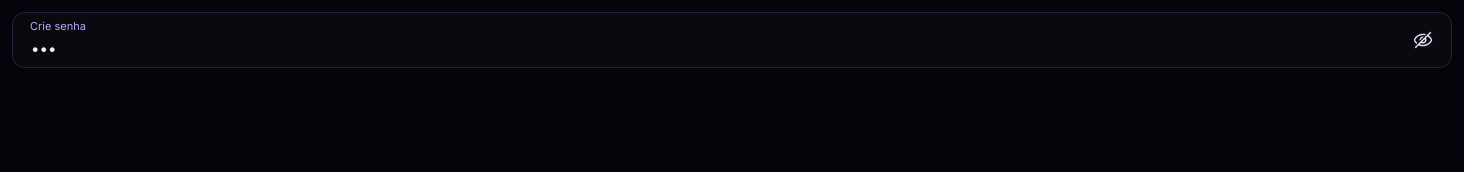
FloatingInput › campo de senha alterna a visibilidade pelo olho
Click the button named "Mostrar senha" at [1423, 40], box [1406,23,1440,57]
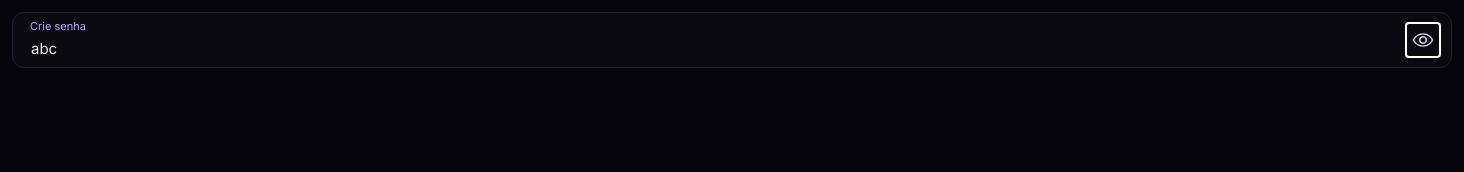
Expected: the field labelled "Crie senha" shows its text, [12,12,1452,68]
Click the button named "Ocultar senha" at [1423, 40], box [1406,23,1440,57]
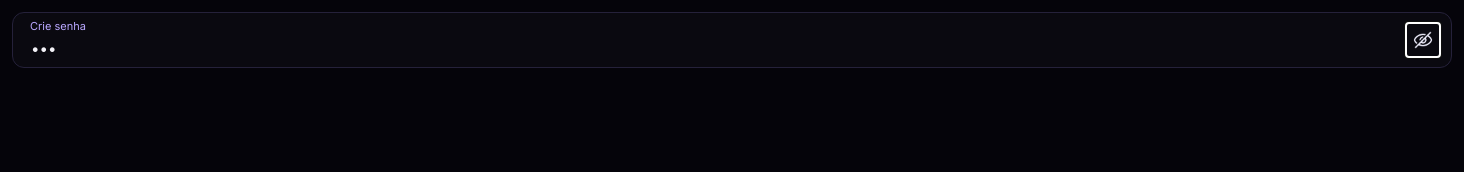
Expected: the password field labelled "Crie senha" hides its text, [12,12,1452,68]
